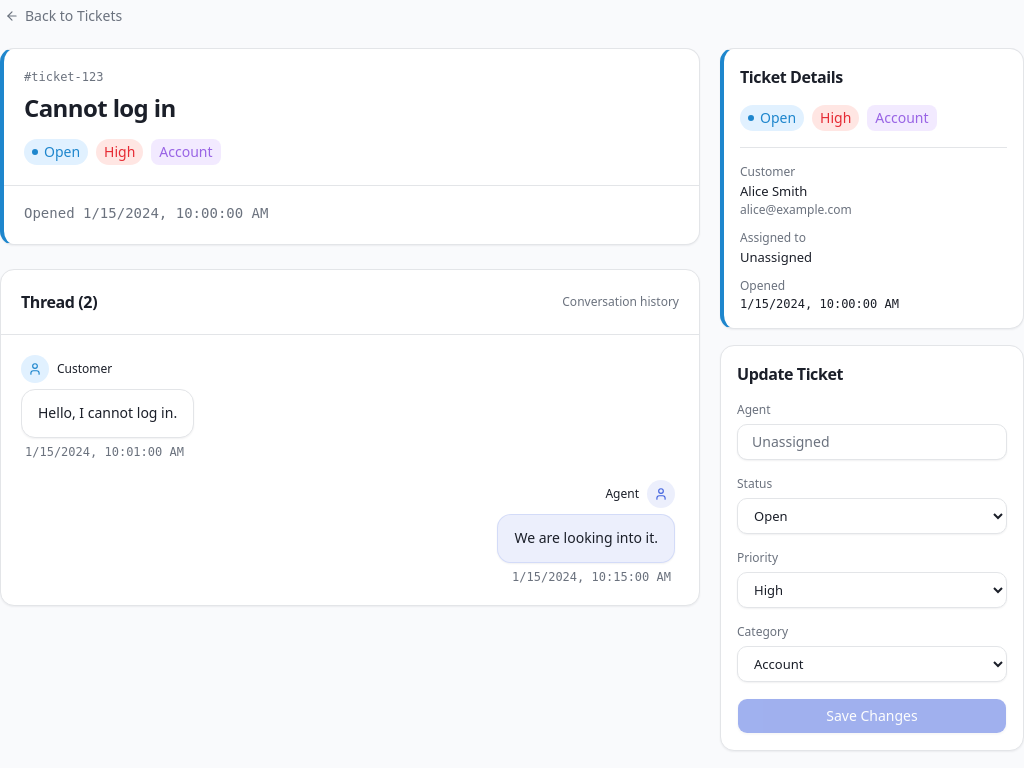
Test case: TicketDetail page › clicking Agent button opens the assignment modal
Expected: the heading "Cannot log in" is shown, [24,91,176,124]
Click the button "Unassigned". click: (791,442)
box: [737,424,1007,460]
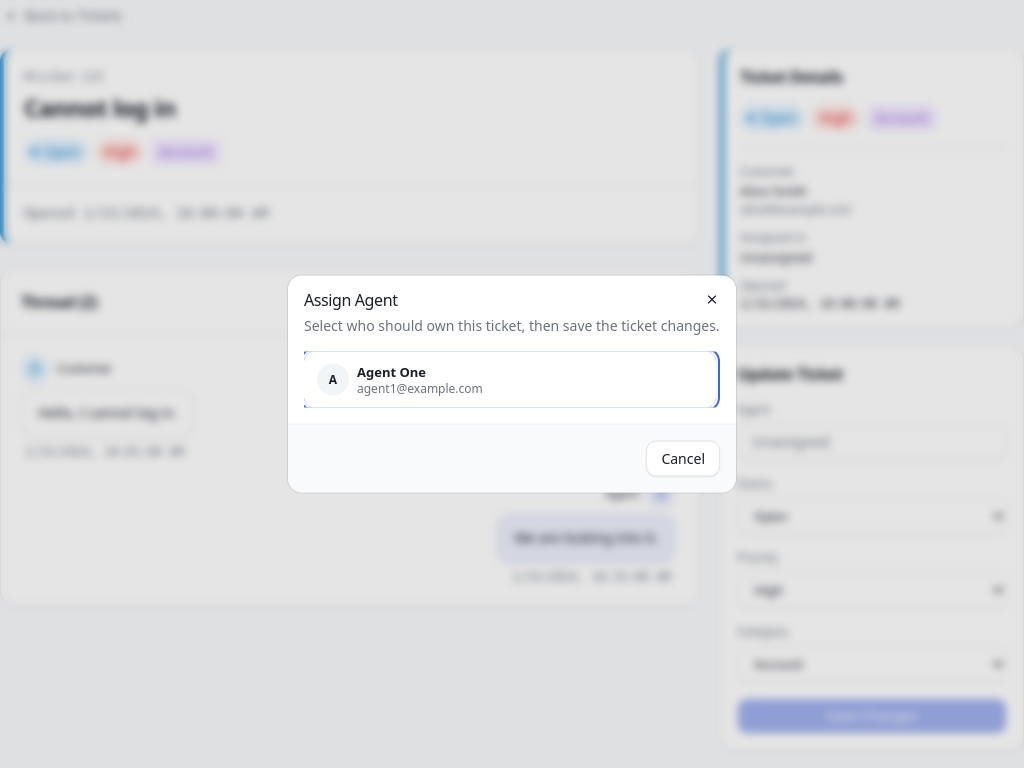
Now the heading "Assign Agent" is shown, box [304,288,398,310]
Now the text "agent1@example.com" is shown, box [357,380,483,396]
